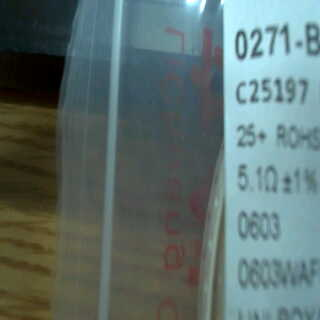5.1R: (234, 161, 284, 201)
